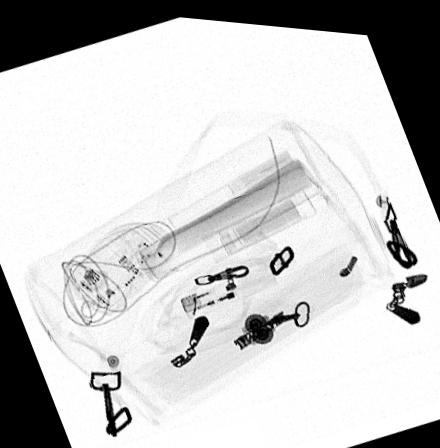Lighter: (179, 273, 240, 315)
